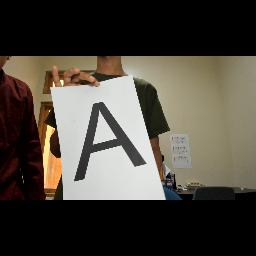a: (69, 96, 155, 190)
